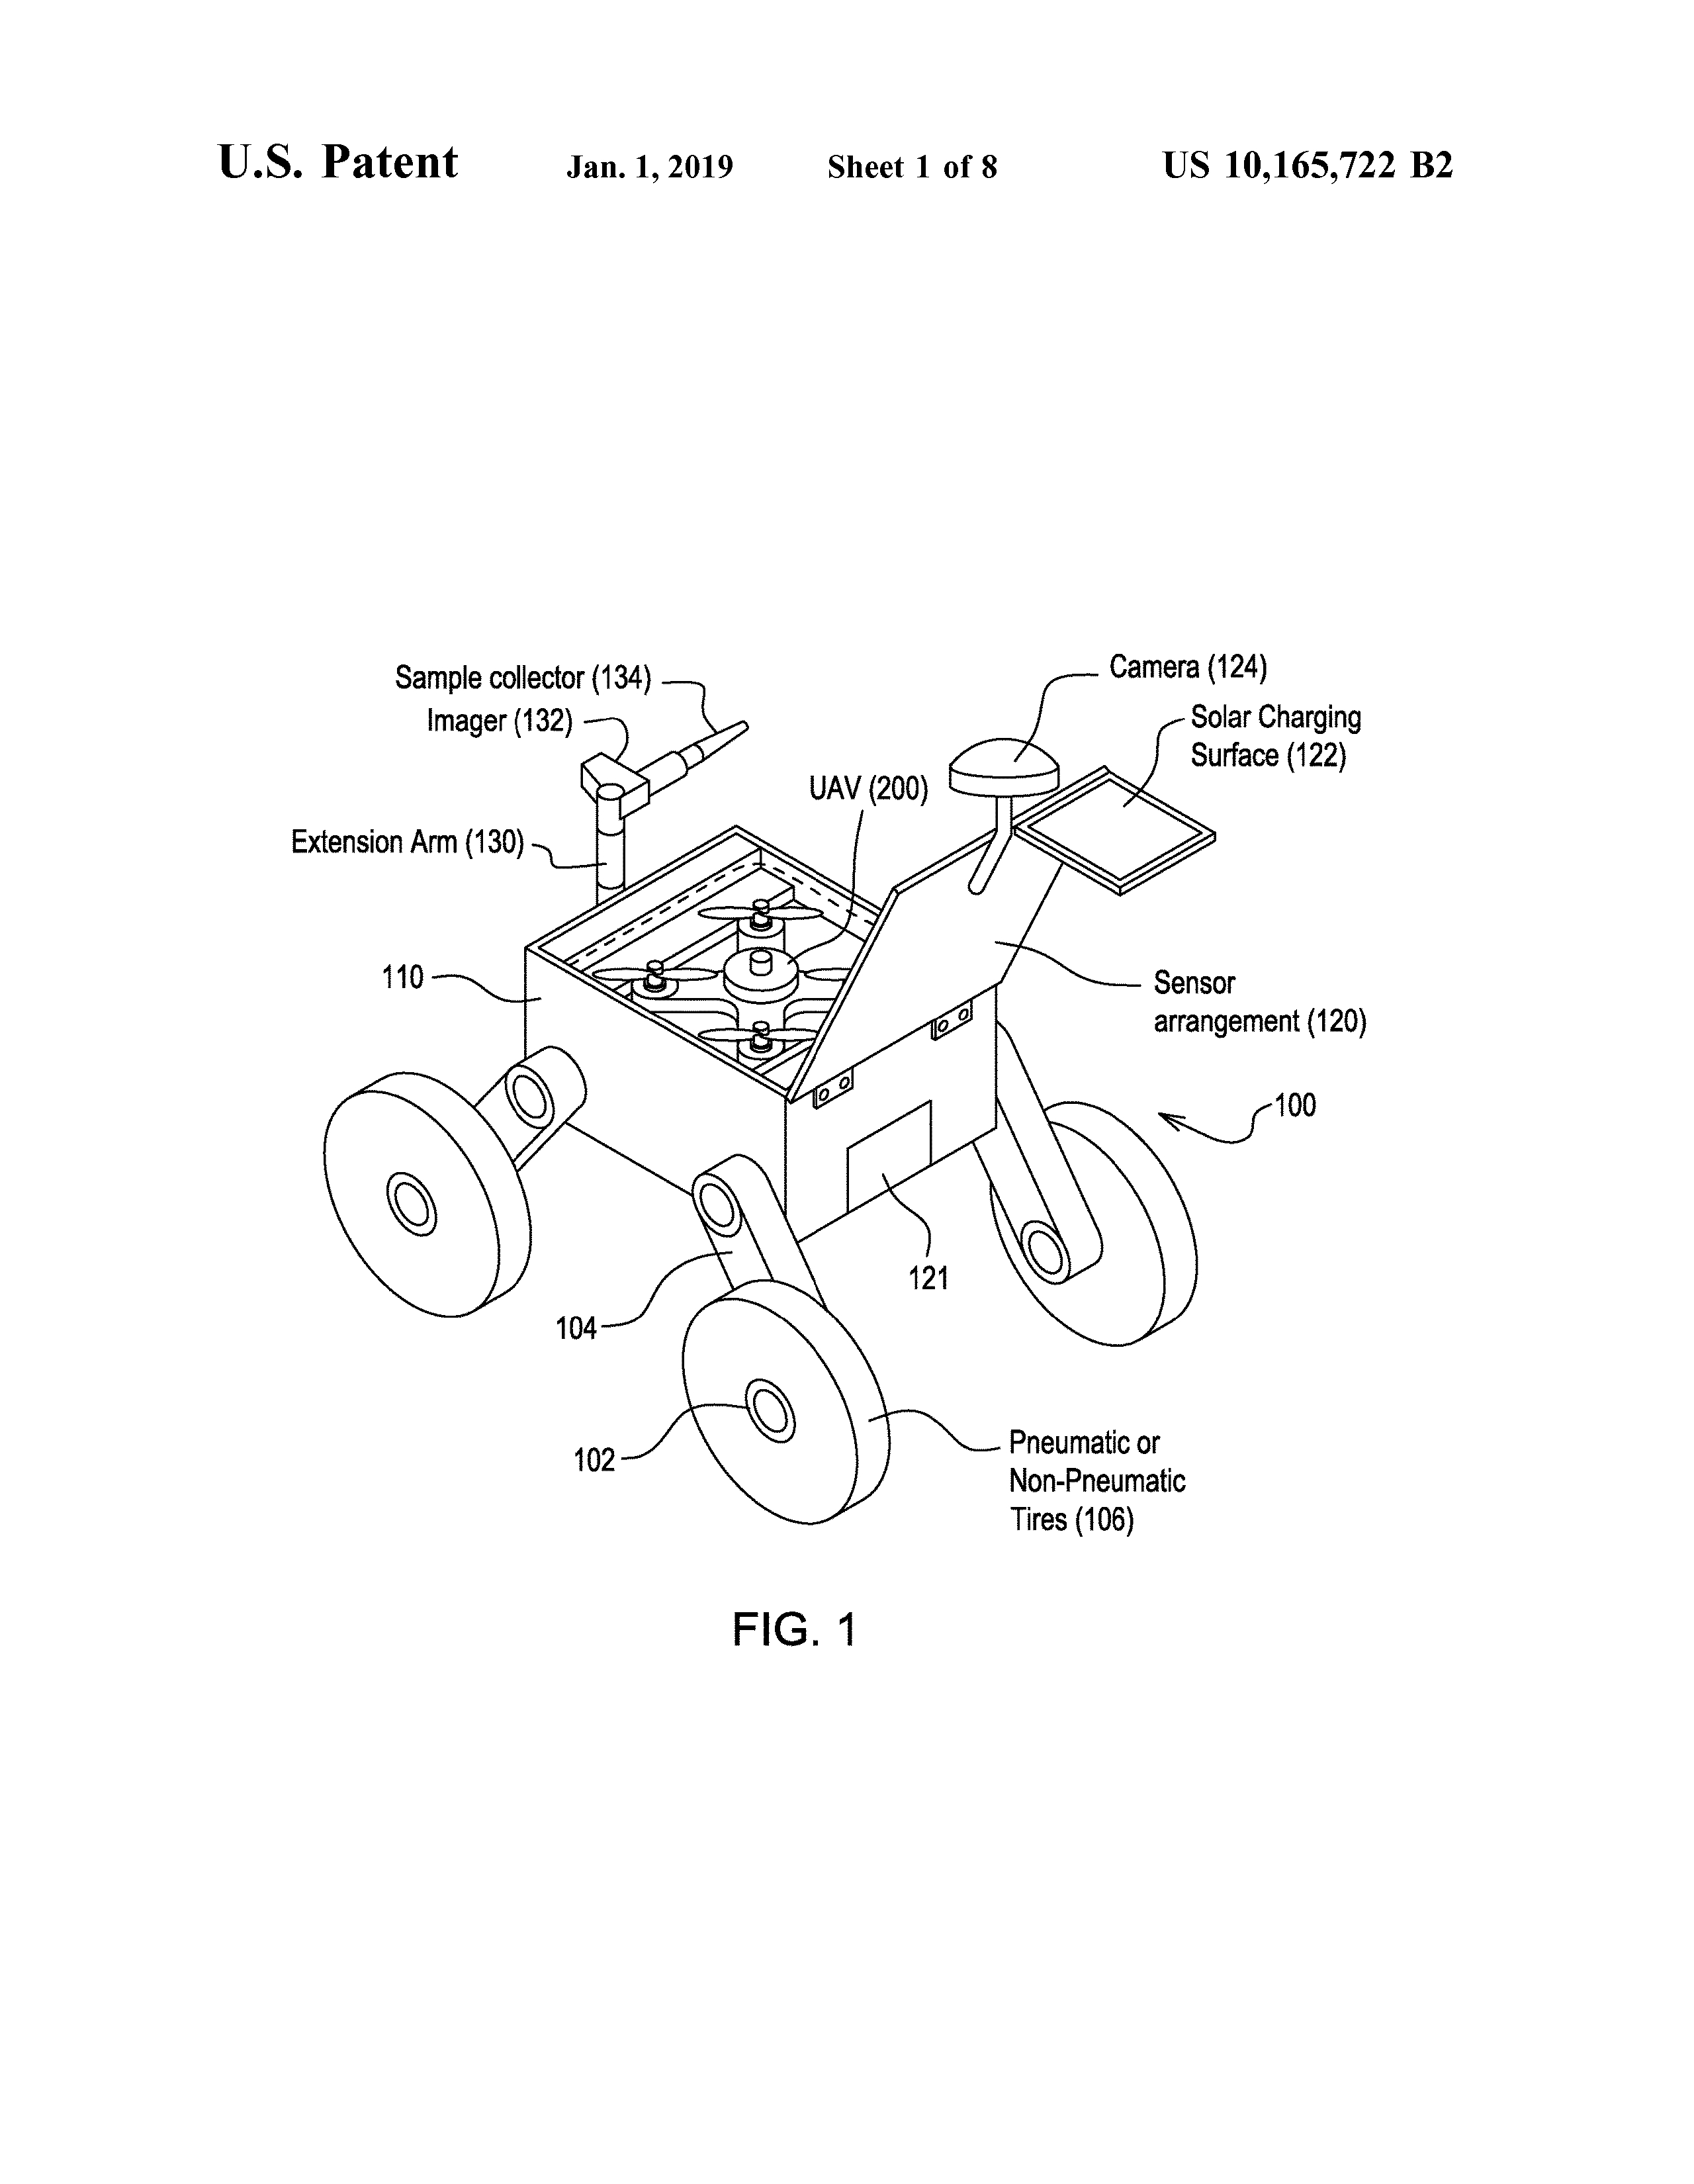patent image: (258, 575, 1438, 1695)
